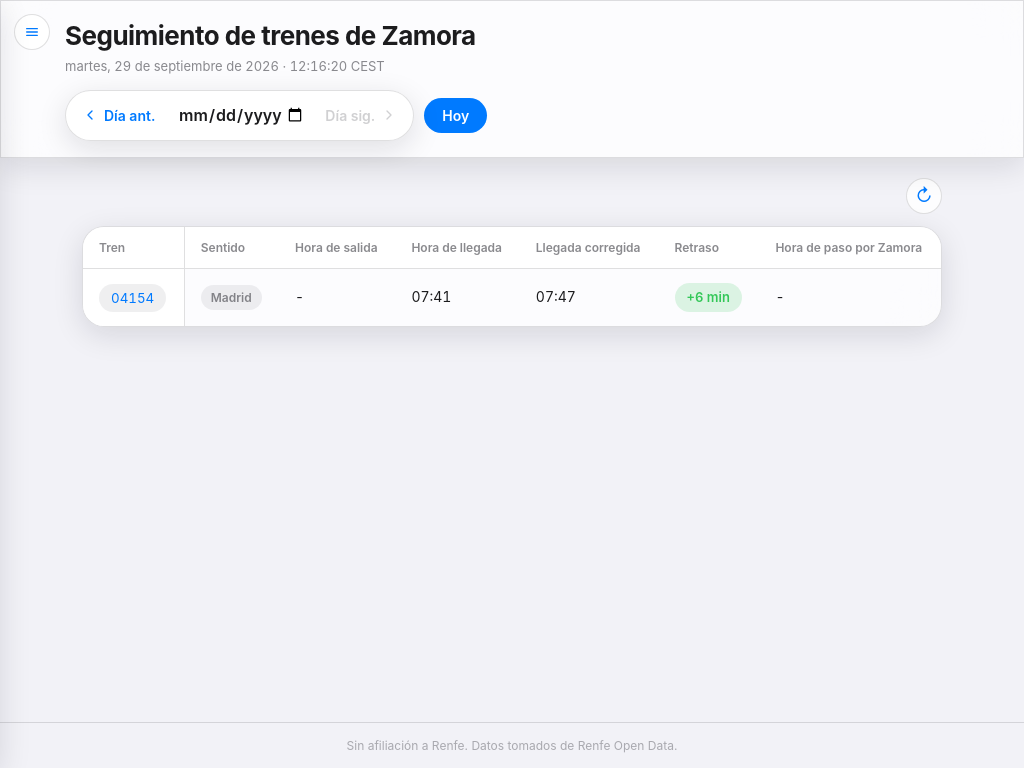
App › returns to today's trains when the 'Hoy' button is clicked
Expected: the button "04154" is shown, [99,284,166,312]
Type "2026-01-04" into the date field named "fecha" at (240, 115), box [169,94,311,136]
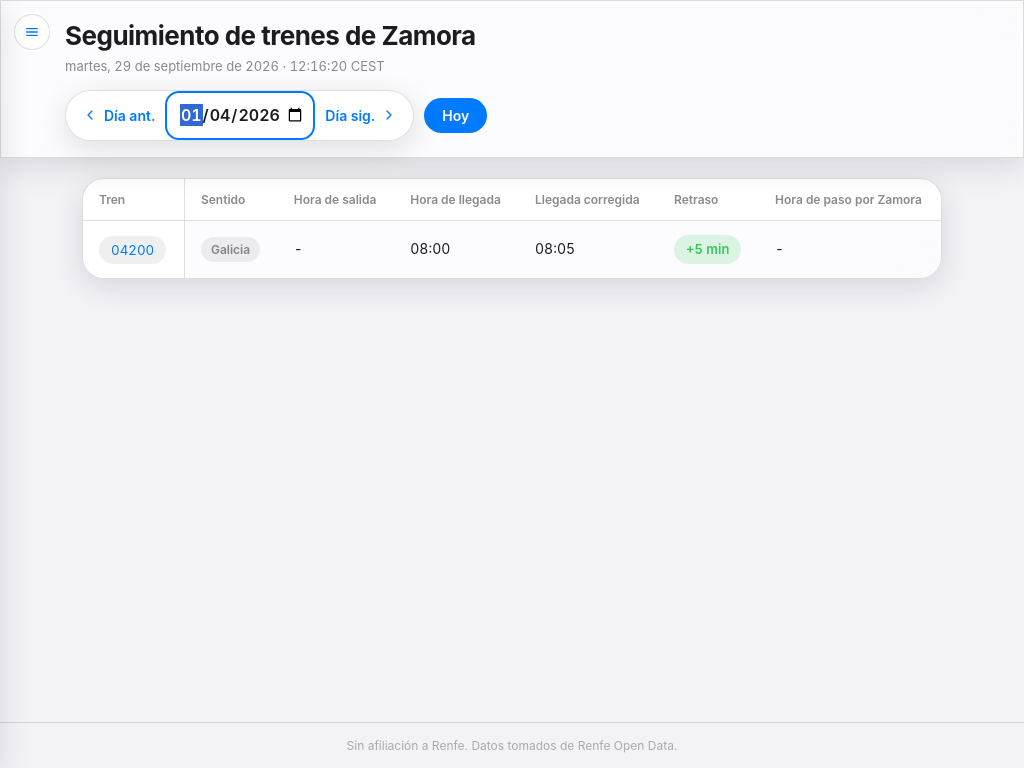
Expected: the button "04200" is shown, [99,236,166,264]
Click the button "Hoy" at (456, 115), box [424,98,487,133]
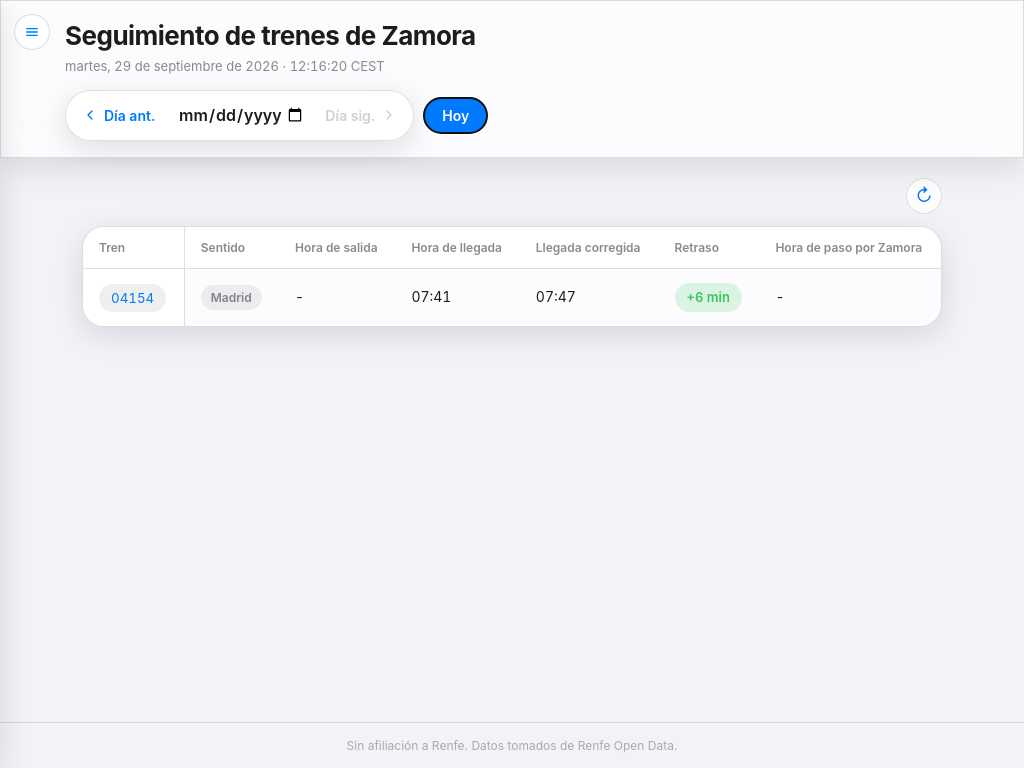
Expected: the button "04154" is shown, [99,284,166,312]
Expected: the date field named "fecha" is empty, [169,94,311,136]
